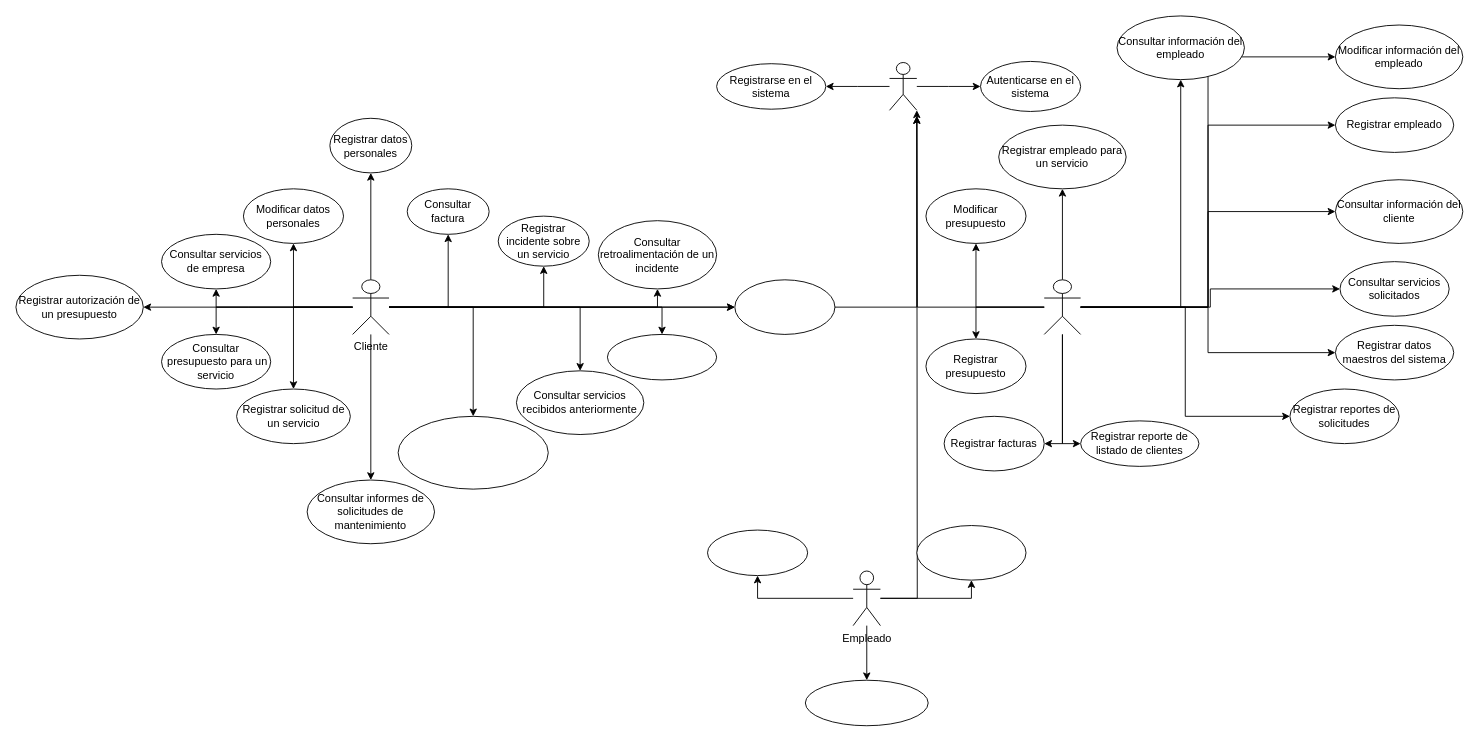
Image size: 1479x742. Some labels were removed from this diagram. The shapes that lost their labels are listed below. From the top down, each one's centre as x and y in pixels, then its label:
[903,86]: Usuario no registrado
[784,306]: Consultar datos de empleado
[1062,306]: Administrador
[662,357]: Consultar incidencias
[472,452]: Registrar autorización para comenzar con los servicios de mantenimiento
[757,552]: Consultar servicios asignados
[971,552]: Registrar informe de trabajo
[866,702]: Modificar informe de trabajo
